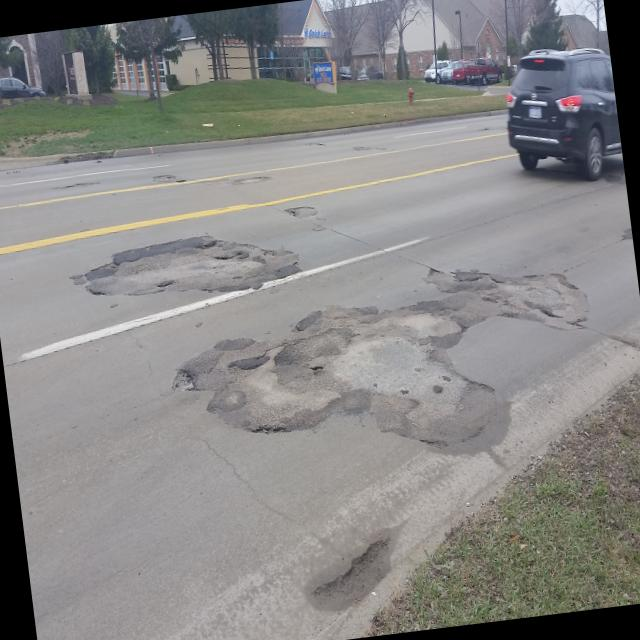Potholes: (188, 274, 606, 494), (68, 199, 310, 322)
